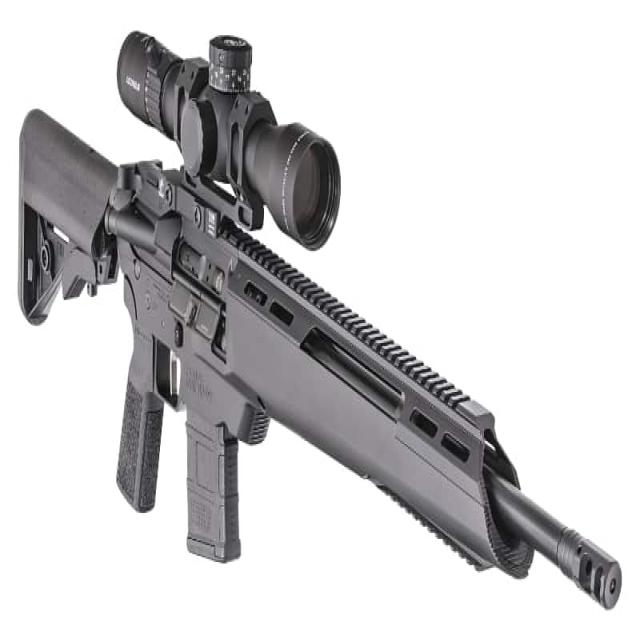Rifle: (15, 32, 623, 611)
